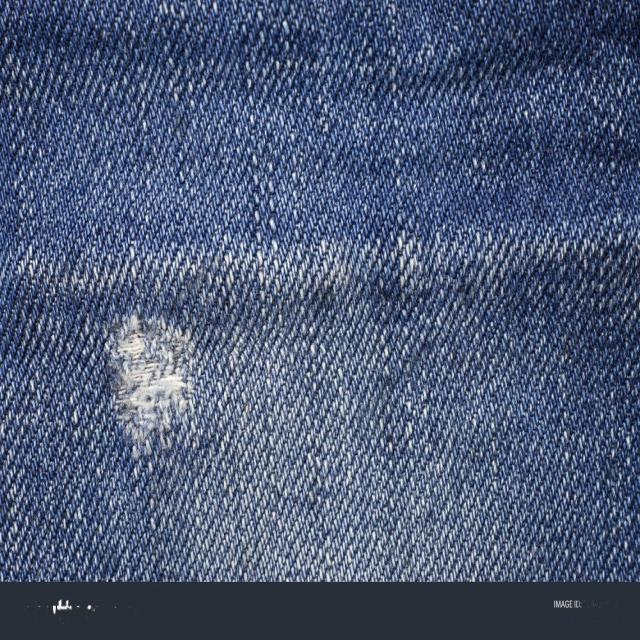Hole: (105, 314, 194, 472)
